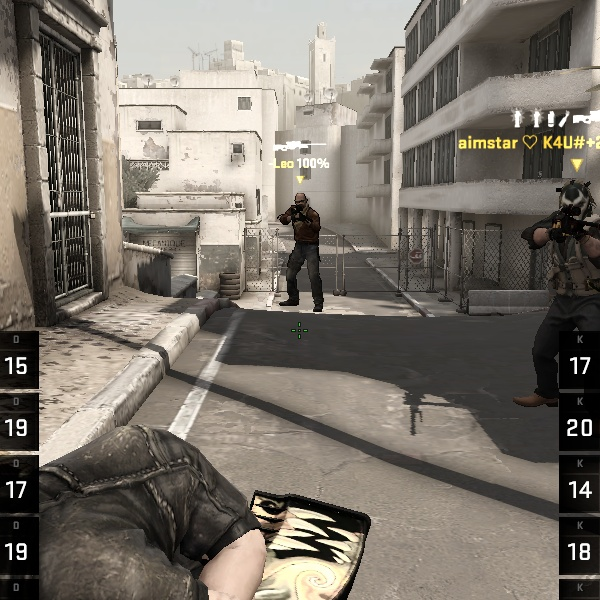t_body: (265, 188, 335, 313)
